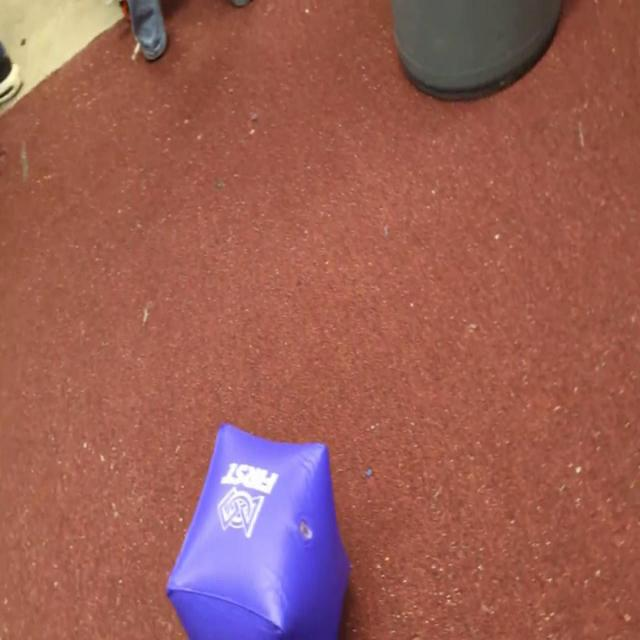frc_cube: (166, 421, 350, 640)
